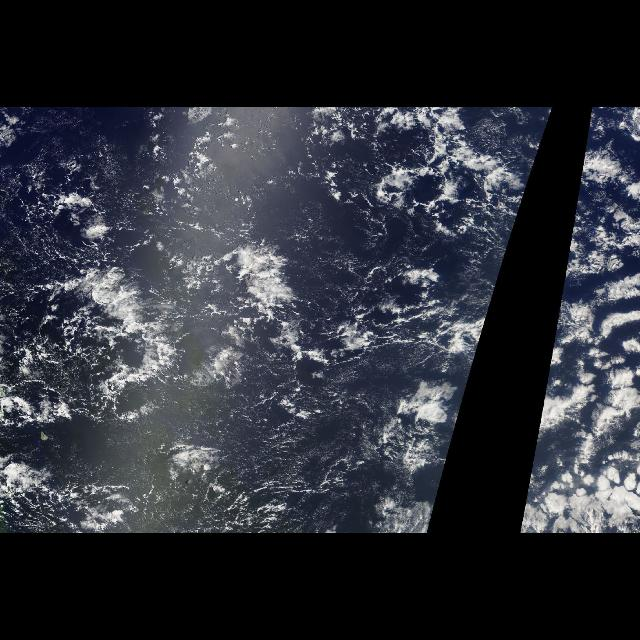Fish: (214, 225, 330, 388), (55, 255, 175, 410)
Gravel: (269, 107, 513, 387), (1, 272, 125, 411)
Sugar: (126, 395, 414, 533), (230, 170, 398, 282), (2, 146, 156, 266)
